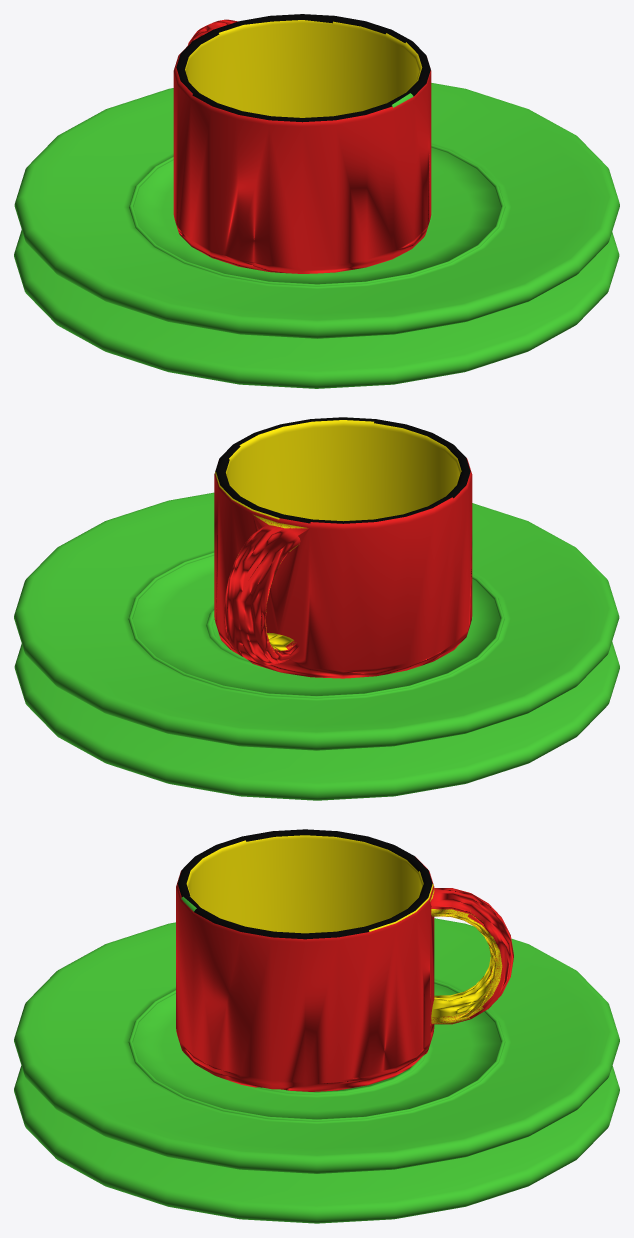
File: cupAndPlate.dae
3 views of the same model, one above another, from view 1: azimuth 30°, elevation 25°; view 2: azimuth 150°, elevation 25°; view 3: azimuth 270°, elevation 25° (orthographic).
Visible parts, largest first — view 1: mesh2, mesh1, mesh3; view 2: mesh2, mesh1, mesh3; view 3: mesh2, mesh1, mesh3.
Boxes of the visible parts, <box> form: mesh2: <box>14,83,619,338</box>; mesh1: <box>173,14,431,273</box>; mesh3: <box>14,230,619,388</box>; mesh2: <box>14,492,619,750</box>; mesh1: <box>214,417,472,678</box>; mesh3: <box>14,641,619,800</box>; mesh2: <box>14,918,619,1173</box>; mesh1: <box>176,829,513,1091</box>; mesh3: <box>14,1066,619,1223</box>.
Bounding box in the file's own units: 2.28 × 2.27 × 0.8568.
Materials: 3 (3 with a texture image).
